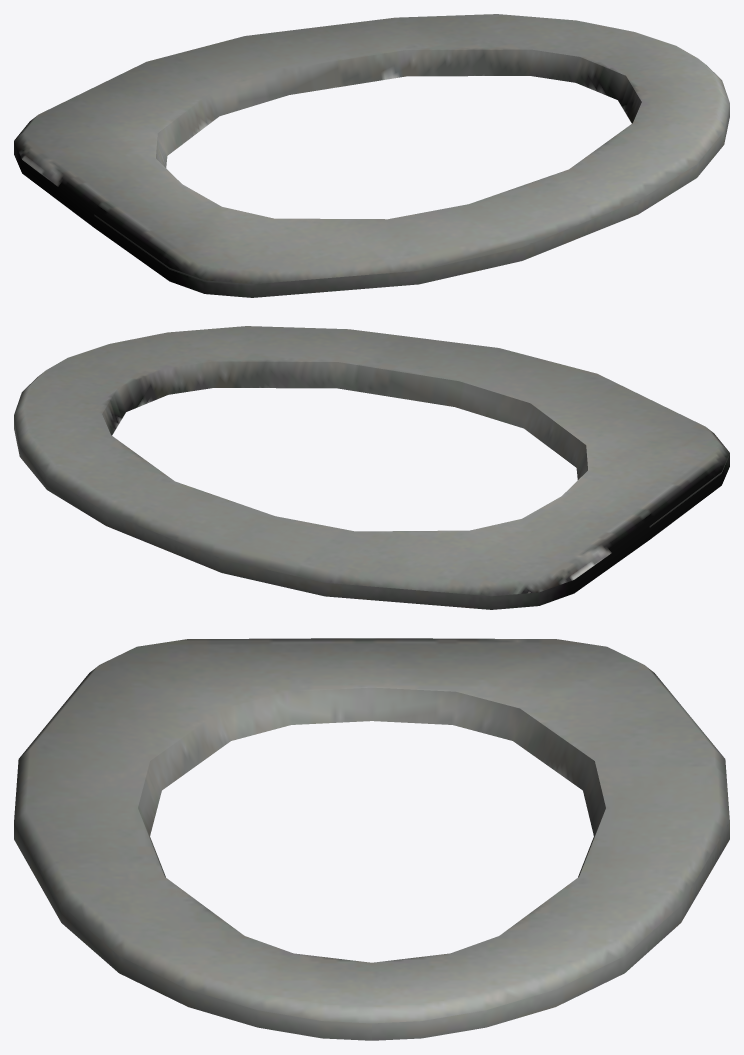
File: toilet_b_breakable01_part13.glb
3 views of the same model, one above another, from view 1: azimuth 30°, elevation 25°; view 2: azimuth 150°, elevation 25°; view 3: azimuth 270°, elevation 25° (orthographic). The views are drawn at different scales.
Parts seen in each view (by area): view 1: toilet_b_breakable01_part13; view 2: toilet_b_breakable01_part13; view 3: toilet_b_breakable01_part13.
Part boxes in pixels (<box>): toilet_b_breakable01_part13: <box>14,14,729,297</box>; toilet_b_breakable01_part13: <box>14,326,729,609</box>; toilet_b_breakable01_part13: <box>14,638,729,1040</box>.
Bounding box in the file's own units: 0.4733 × 0.0165 × 0.3774.
1 material, 1 textured.
